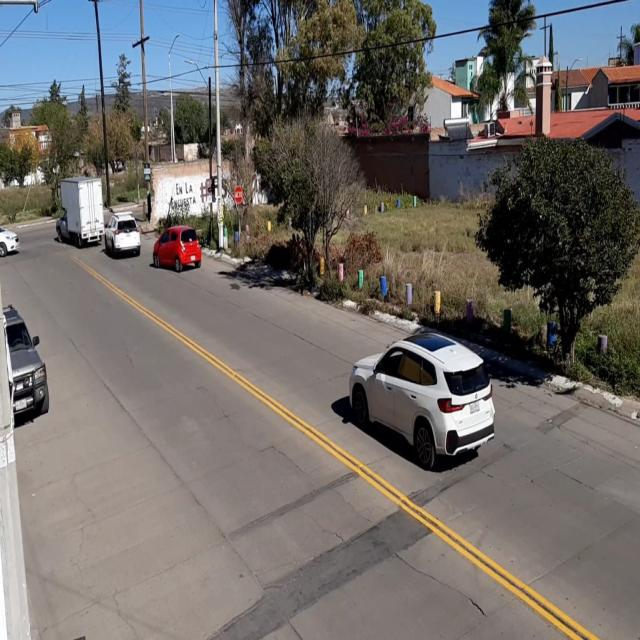Auto: (352, 324, 496, 472), (2, 303, 50, 422), (152, 223, 202, 274), (107, 210, 141, 256)
